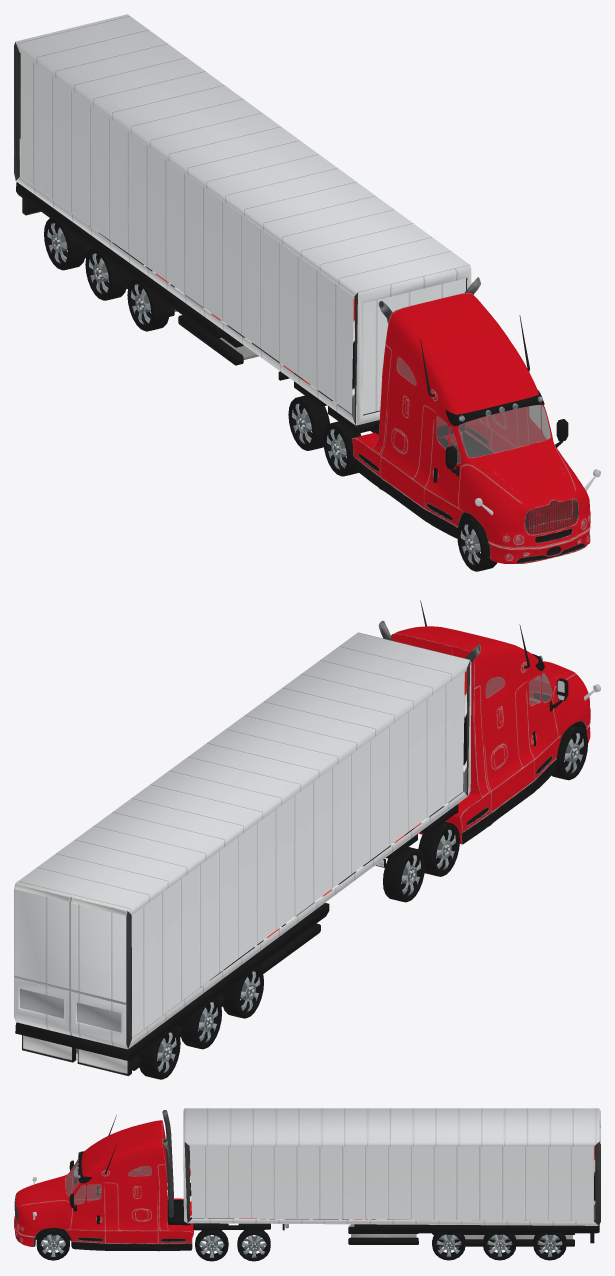
File: truck.glb
3 renders of one model, top to bottom at view 1: azimuth 30°, elevation 25°; view 2: azimuth 150°, elevation 25°; view 3: azimuth 270°, elevation 25°, orthographic. The views are drawn at different scales.
Parts seen in each view (by area): view 1: Object_2_body, Object_3_body, wheel_4, wheel_6, wheel_8, wheel_10, wheel_0, wheel_2; view 2: Object_2_body, Object_3_body, wheel_4, wheel_2, wheel_10, wheel_6, wheel_8, wheel_0; view 3: Object_2_body, Object_3_body, wheel_1, wheel_5, wheel_3, wheel_9, wheel_11, wheel_7.
Part boxes in pixels (x1=…): Object_2_body: x1=14, y1=14, x2=471, y2=425; Object_3_body: x1=278, y1=277, x2=600, y2=563; wheel_4: x1=288, y1=395, x2=329, y2=450; wheel_6: x1=127, y1=279, x2=169, y2=331; wheel_8: x1=85, y1=248, x2=127, y2=300; wheel_10: x1=44, y1=218, x2=85, y2=270; wheel_0: x1=457, y1=516, x2=497, y2=571; wheel_2: x1=323, y1=421, x2=361, y2=476; Object_2_body: x1=14, y1=632, x2=471, y2=1076; Object_3_body: x1=375, y1=600, x2=600, y2=867; wheel_4: x1=383, y1=847, x2=424, y2=902; wheel_2: x1=418, y1=822, x2=459, y2=876; wheel_10: x1=138, y1=1027, x2=180, y2=1079; wheel_6: x1=222, y1=966, x2=263, y2=1018; wheel_8: x1=180, y1=997, x2=221, y2=1049; wheel_0: x1=551, y1=725, x2=587, y2=780; Object_2_body: x1=183, y1=1108, x2=600, y2=1246; Object_3_body: x1=14, y1=1110, x2=284, y2=1251; wheel_1: x1=36, y1=1228, x2=69, y2=1260; wheel_5: x1=237, y1=1229, x2=270, y2=1261; wheel_3: x1=195, y1=1230, x2=228, y2=1261; wheel_9: x1=483, y1=1233, x2=516, y2=1260; wheel_11: x1=533, y1=1233, x2=566, y2=1260; wheel_7: x1=432, y1=1233, x2=465, y2=1260.
Bounding box in the file's own units: 2.09 × 3.19 × 13.95.
Materials: 2 (2 with a texture image).
